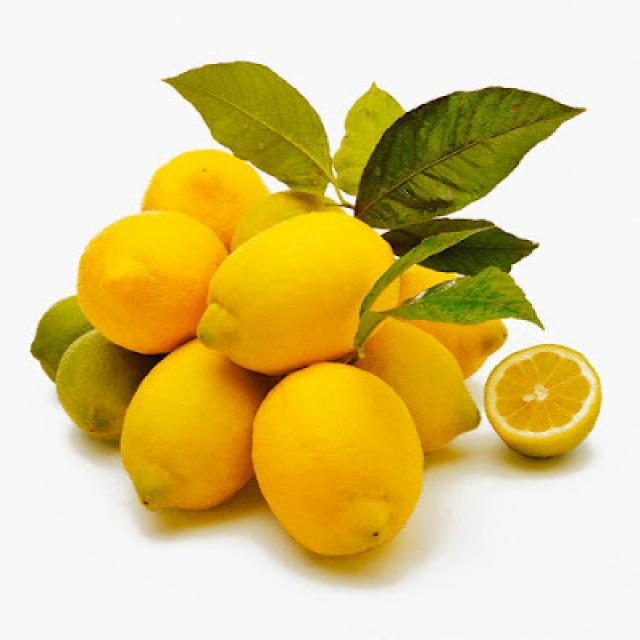lemon: (248, 358, 427, 564), (109, 336, 264, 530), (197, 216, 397, 360), (77, 206, 214, 352), (482, 339, 601, 460)
